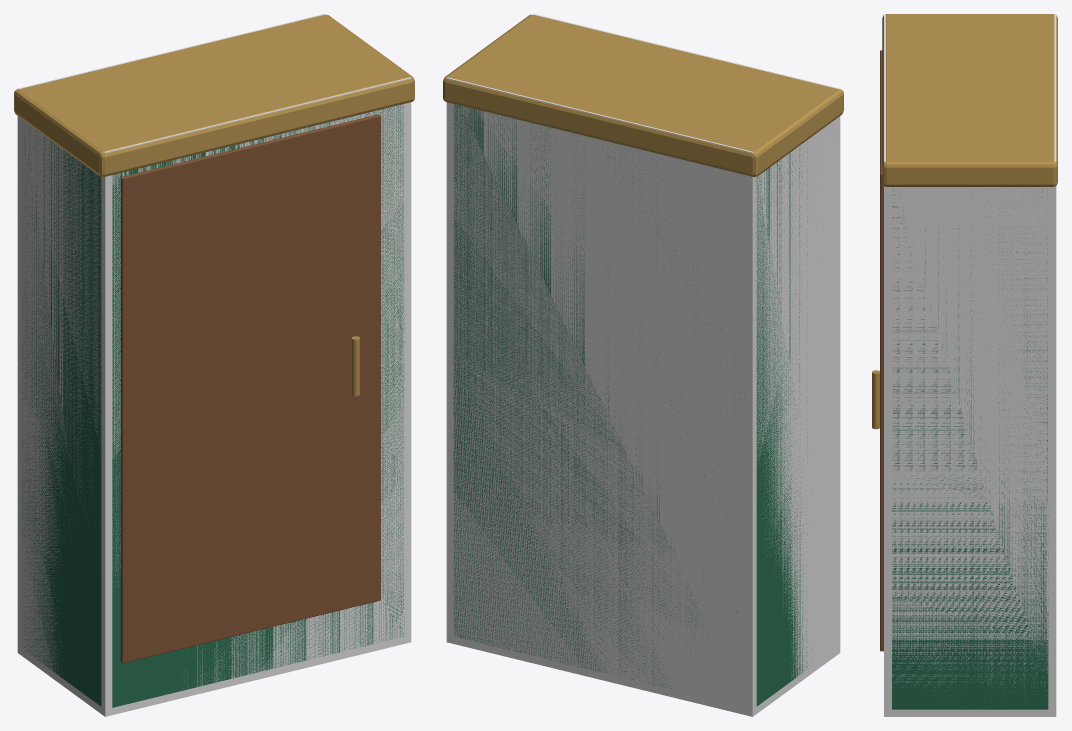
The model's file is filing-cabinet_luxury.glb.
The picture shows the model from 3 angles, left to right: view 1: azimuth 30°, elevation 25°; view 2: azimuth 150°, elevation 25°; view 3: azimuth 270°, elevation 25°; orthographic projection.
Visible parts, largest first — view 1: MESH_Door_01, COL_filing-cabinet, MESH_CabinetCarcass, MESH_Crown; view 2: COL_filing-cabinet, MESH_CabinetCarcass, MESH_Crown; view 3: COL_filing-cabinet, MESH_Crown, MESH_CabinetCarcass, MESH_Door_01, MESH_Handle.
Part boxes in pixels (left/top/right/bottom): MESH_Door_01: left=120, top=114, right=380, bottom=663; COL_filing-cabinet: left=17, top=14, right=411, bottom=716; MESH_CabinetCarcass: left=21, top=104, right=404, bottom=707; MESH_Crown: left=14, top=14, right=414, bottom=176; COL_filing-cabinet: left=446, top=14, right=840, bottom=716; MESH_CabinetCarcass: left=453, top=104, right=809, bottom=706; MESH_Crown: left=443, top=14, right=843, bottom=176; COL_filing-cabinet: left=884, top=14, right=1056, bottom=716; MESH_Crown: left=882, top=14, right=1057, bottom=186; MESH_CabinetCarcass: left=892, top=188, right=1048, bottom=709; MESH_Door_01: left=880, top=50, right=883, bottom=651; MESH_Handle: left=872, top=370, right=879, bottom=429.
Bounding box in the file's own units: 1.08 × 1.85 × 0.5612.
